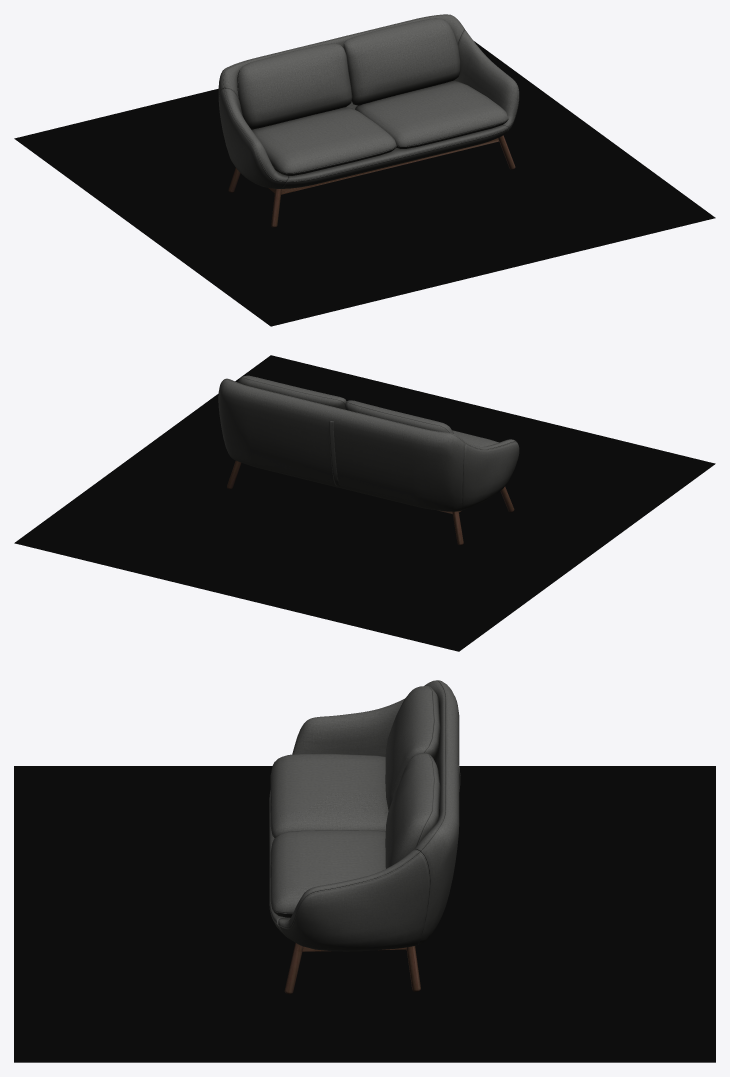
The picture shows the model from 3 angles, top to bottom: view 1: azimuth 30°, elevation 25°; view 2: azimuth 150°, elevation 25°; view 3: azimuth 270°, elevation 25°; orthographic projection. The views are drawn at different scales.
Visible parts, largest first — view 1: Plane001, FABRIC001, WOOD001; view 2: Plane001, FABRIC001, WOOD001; view 3: Plane001, FABRIC001, WOOD001.
Part boxes in pixels (x1,y1,x2,y2): Plane001: (14,41,715,326); FABRIC001: (218,14,519,188); WOOD001: (228,135,515,227); Plane001: (14,355,715,651); FABRIC001: (218,375,519,511); WOOD001: (227,460,514,545); Plane001: (14,766,715,1062); FABRIC001: (269,680,460,951); WOOD001: (284,943,420,994).
Bounding box in the file's own units: 334 × 86.42 × 334.
3 materials, 3 textured.
